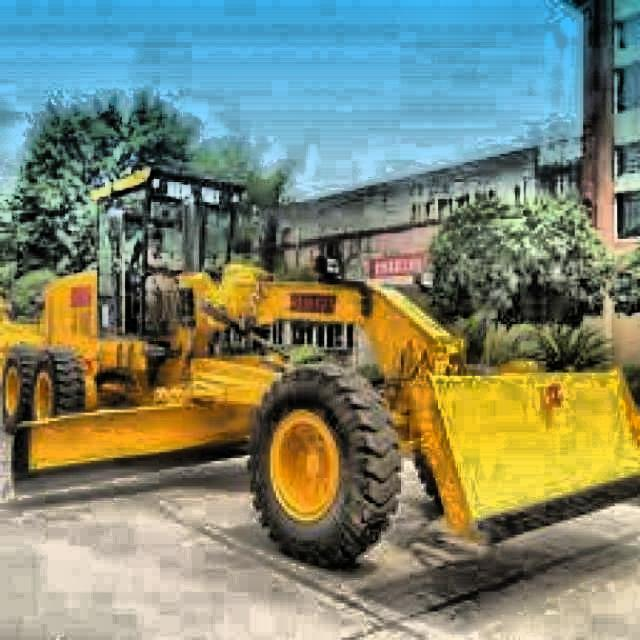bull_dozer/loader/grader: (0, 160, 640, 571)
person: (137, 228, 185, 320)
